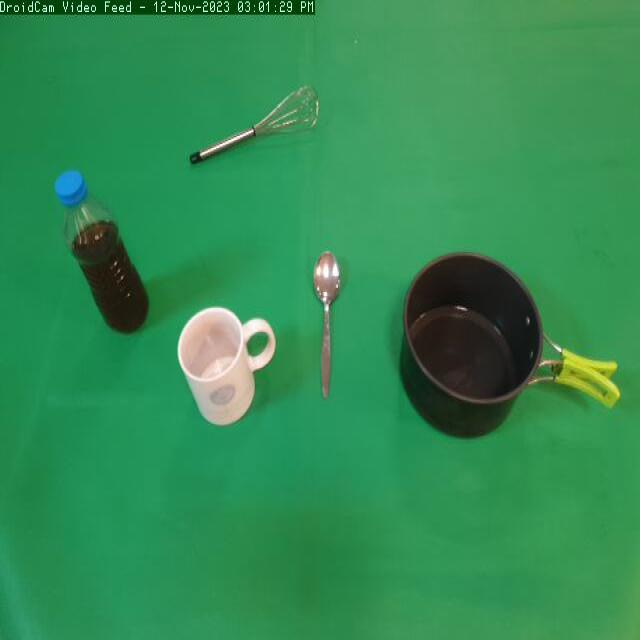cup: (170, 303, 280, 442)
fullbottle: (46, 153, 158, 350)
pot: (397, 237, 636, 459)
spoon: (310, 245, 355, 406)
whisk: (179, 80, 327, 182)
